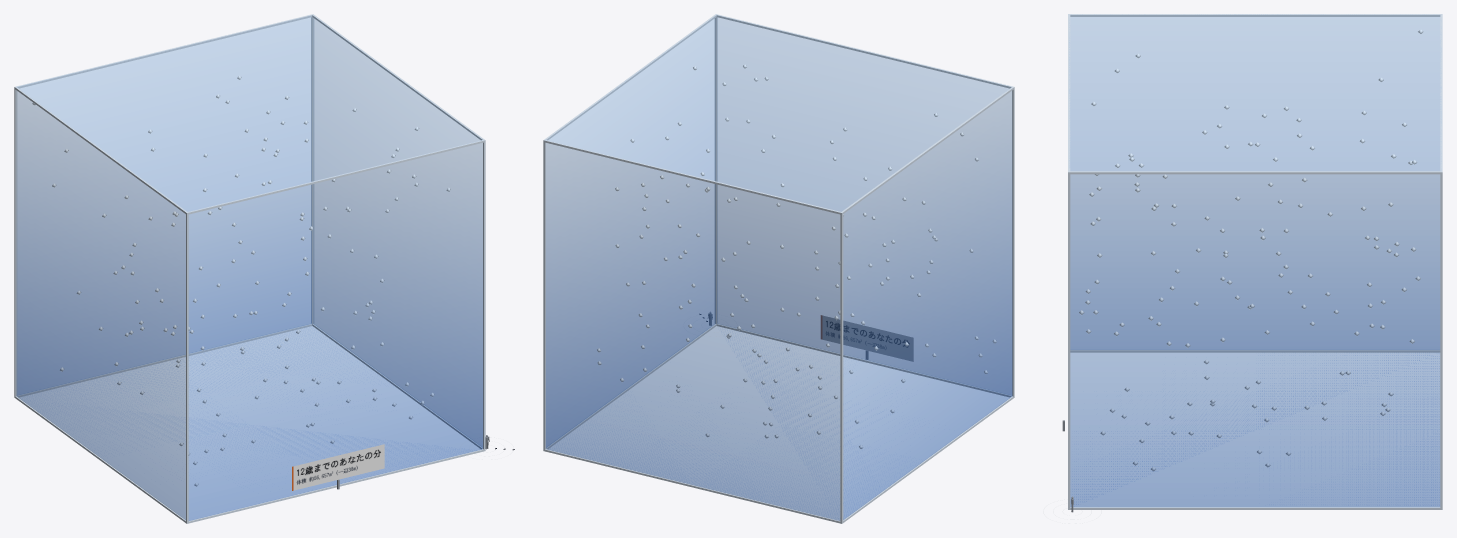
The model's file is cube_life_12.glb.
3 views of the same model, side by side, from view 1: azimuth 30°, elevation 25°; view 2: azimuth 150°, elevation 25°; view 3: azimuth 270°, elevation 25° (orthographic). The views are drawn at different scales.
Parts seen in each view (by area): view 1: co2, edge, label, dots; view 2: co2, edge, label, dots; view 3: co2, edge, dots.
Boxes of the visible parts, box(x1,y1,x2,y2) form: co2: box(16, 15, 482, 520); edge: box(14, 14, 485, 523); label: box(292, 444, 384, 490); dots: box(32, 75, 450, 486); co2: box(546, 15, 1012, 520); edge: box(543, 14, 1014, 523); label: box(821, 315, 913, 361); dots: box(597, 64, 996, 449); co2: box(1069, 15, 1441, 506); edge: box(1068, 14, 1442, 509); dots: box(1079, 29, 1423, 471).
Size of the model in its own units: 42.09 by 38.41 by 41.19.
Materials: 8 (3 with a texture image).
